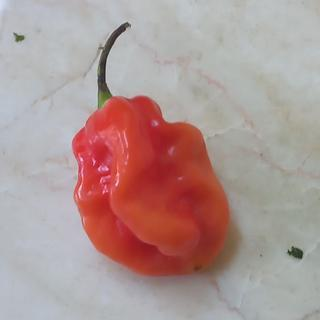Grade-A: (55, 87, 234, 283)
